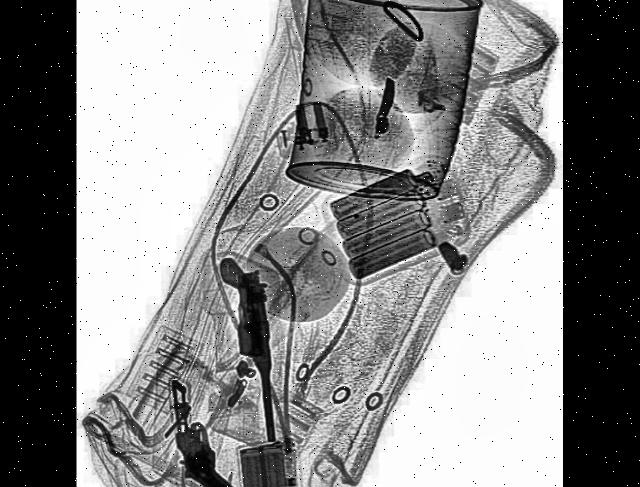Gun: (145, 373, 266, 487), (218, 248, 280, 449)
